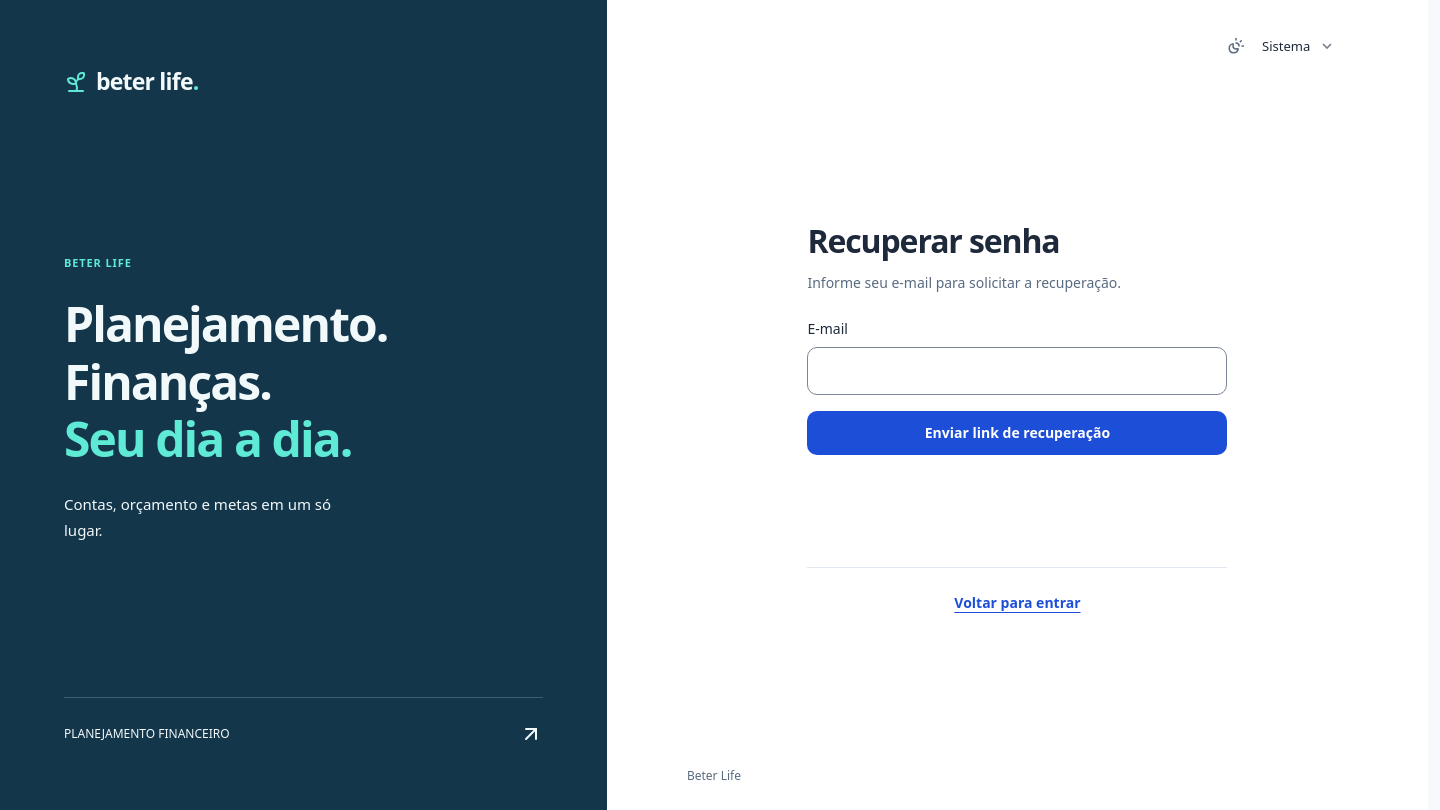
Test: clean-room routes with independently mocked boundaries › keeps signup and recovery requests publicly neutral
In the field labelled "E-mail": coordinates (1017, 371) [807,347,1227,395], type "test@example.test"
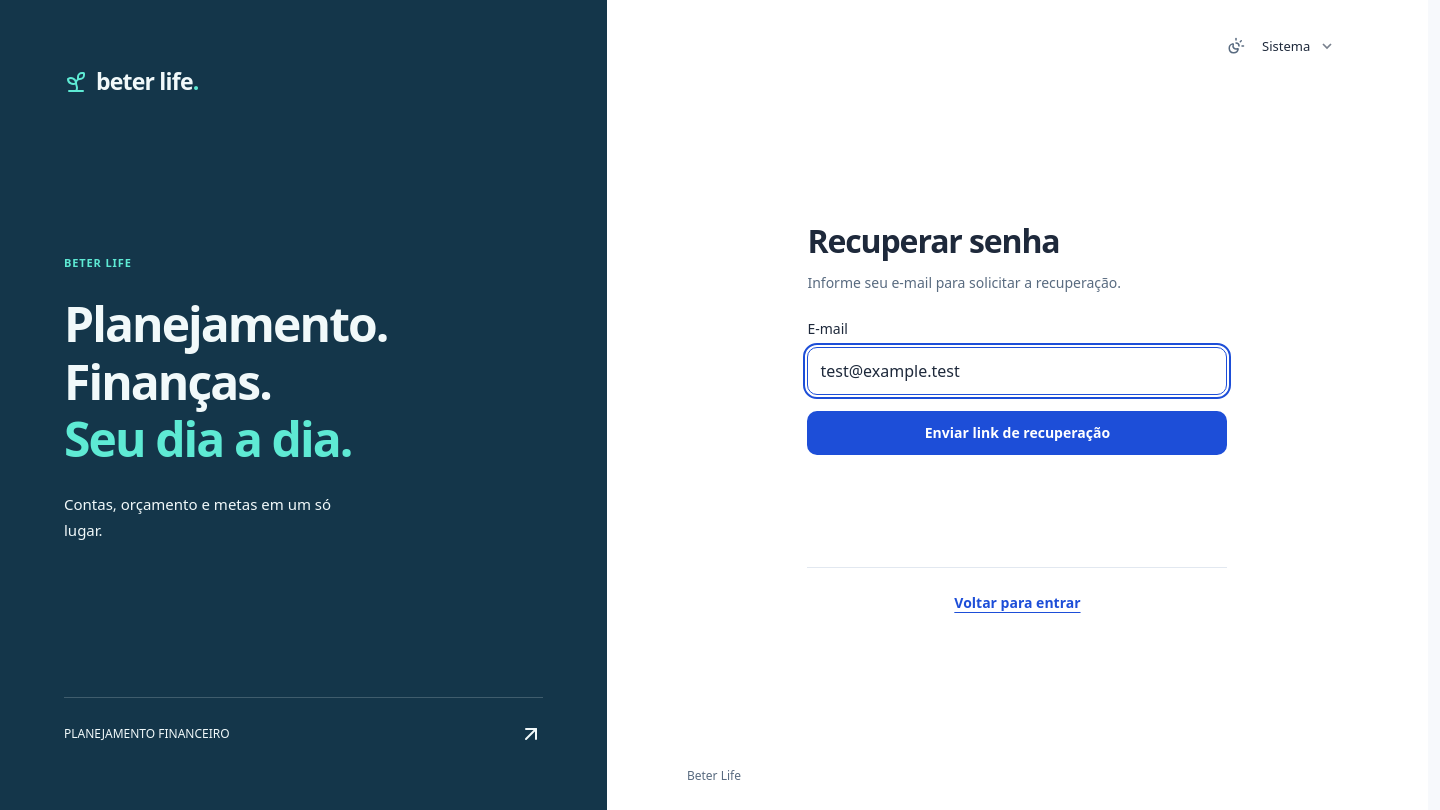
Click the button "Enviar link de recuperação": coordinates (1017, 433) [807,411,1227,455]
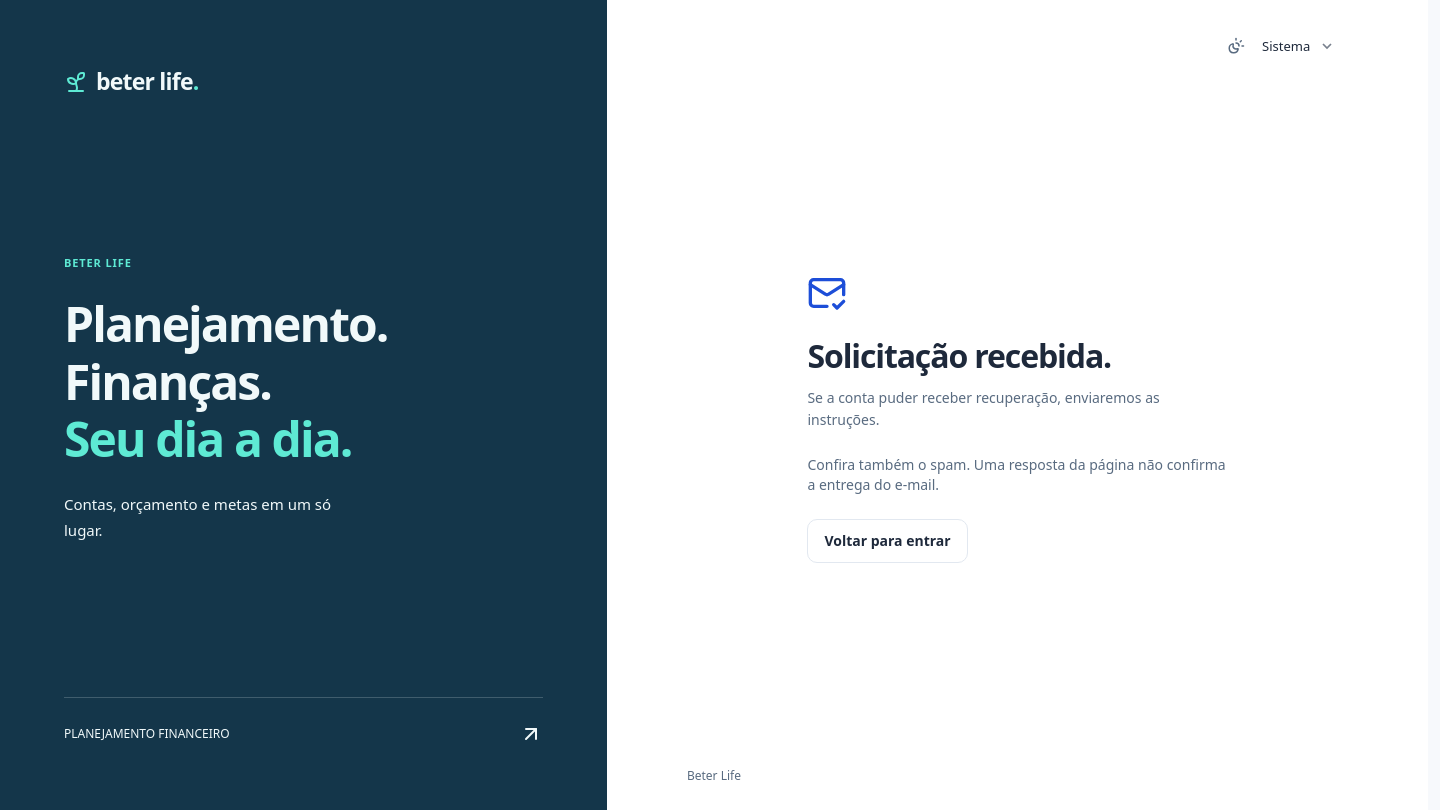
Now the heading "Solicitação recebida." is shown, box [807,334,1111,377]
Now the text "Se a conta puder receber recuperação, enviaremos as instruções." is shown, box [807,388,1160,429]
